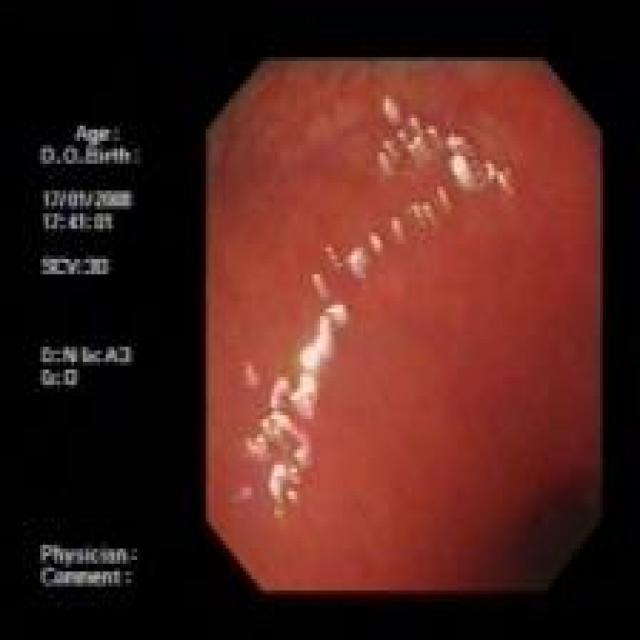color misalignment: (35, 119, 143, 594)
contrast: (473, 460, 598, 593)
specularity: (290, 303, 351, 414), (264, 460, 293, 508), (447, 150, 478, 193)
